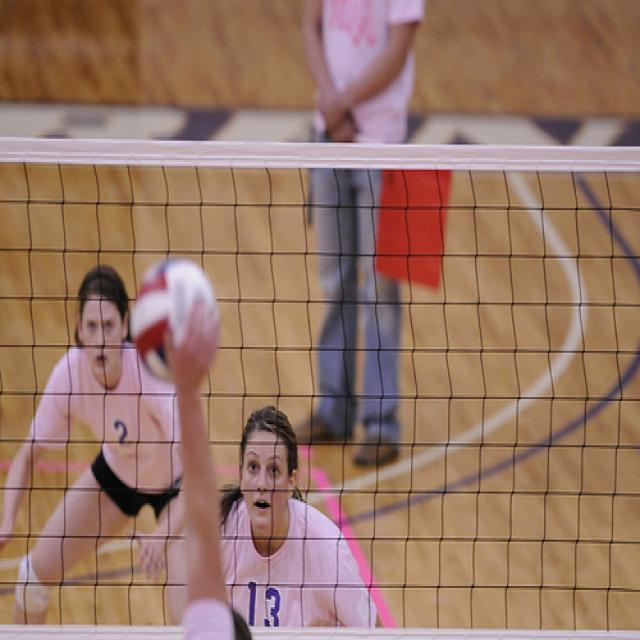volleyball: (130, 259, 220, 386)
